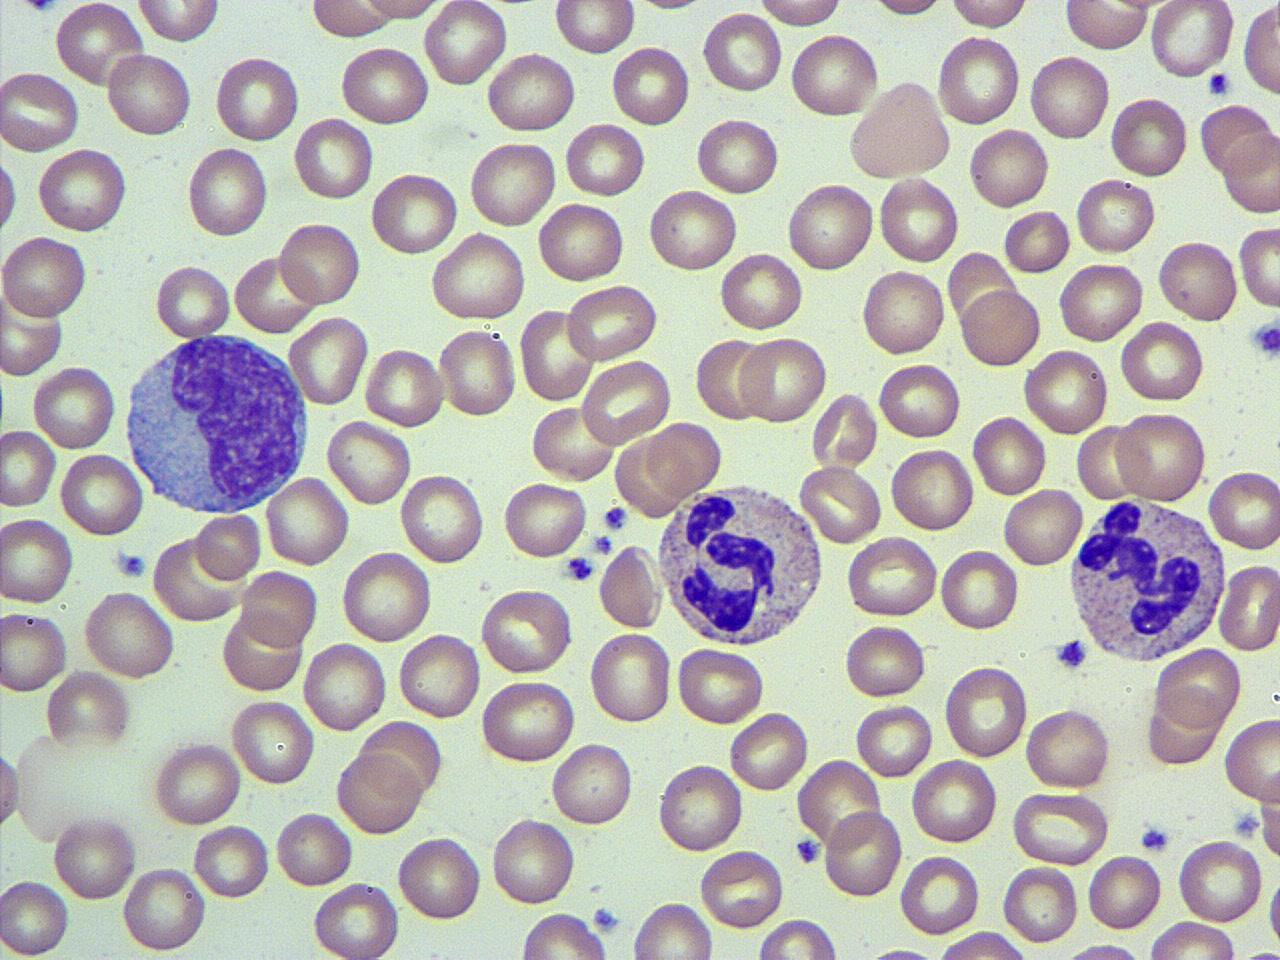Platelets: (1056, 634, 1090, 672), (1250, 321, 1280, 361), (114, 548, 148, 580), (794, 834, 823, 868), (1139, 825, 1171, 854), (590, 906, 623, 934), (564, 553, 596, 582), (602, 504, 629, 532), (1232, 812, 1260, 838), (1206, 69, 1232, 98), (17, 0, 59, 16), (1245, 944, 1280, 960), (592, 533, 616, 557)
RBC: (846, 81, 954, 179), (337, 546, 433, 646), (428, 228, 530, 323), (1112, 408, 1208, 504), (783, 178, 877, 277), (81, 586, 177, 680), (479, 676, 578, 766), (263, 471, 352, 571), (466, 137, 560, 230), (579, 356, 675, 447), (935, 30, 1023, 130), (796, 755, 883, 856), (479, 585, 574, 676), (587, 628, 674, 727), (185, 141, 271, 242), (50, 807, 140, 903), (844, 532, 941, 620), (655, 759, 745, 854), (228, 694, 317, 789), (398, 470, 487, 566), (286, 310, 370, 410), (908, 755, 1000, 847), (736, 333, 827, 425), (151, 533, 242, 626), (368, 168, 462, 258), (300, 640, 390, 734), (787, 30, 882, 119), (944, 662, 1029, 760), (213, 53, 302, 146), (337, 42, 432, 129), (152, 736, 242, 828), (535, 198, 627, 287), (394, 832, 484, 924), (35, 145, 128, 234), (1, 231, 90, 324), (646, 188, 740, 275), (276, 216, 364, 310), (396, 628, 482, 724), (324, 418, 414, 508), (488, 816, 577, 908), (888, 443, 976, 535), (876, 172, 961, 268), (1022, 346, 1112, 436), (860, 266, 947, 358), (121, 862, 207, 956), (437, 324, 521, 419), (334, 750, 424, 838), (1022, 704, 1113, 792), (821, 806, 904, 902), (1008, 788, 1110, 865), (1177, 836, 1267, 924), (548, 740, 636, 830), (52, 1, 145, 86), (518, 305, 597, 404), (58, 450, 146, 538), (564, 281, 660, 362), (421, 1, 509, 89), (718, 247, 806, 334), (105, 50, 191, 139), (966, 123, 1052, 212), (1153, 645, 1243, 731), (1026, 52, 1110, 144), (674, 643, 767, 726), (484, 51, 577, 134), (31, 362, 118, 450), (362, 343, 447, 432), (696, 845, 786, 930), (1056, 259, 1146, 344), (44, 667, 133, 751), (1118, 319, 1206, 403), (500, 478, 590, 562), (609, 41, 692, 130), (700, 7, 784, 96), (310, 878, 401, 960), (694, 113, 782, 197), (1000, 485, 1085, 570), (876, 358, 962, 443), (842, 619, 928, 703), (293, 114, 374, 204), (237, 566, 319, 652), (1108, 93, 1190, 179), (529, 402, 617, 484), (728, 709, 812, 793), (797, 463, 883, 546), (0, 512, 75, 607), (232, 252, 314, 337), (272, 806, 355, 890), (562, 118, 648, 200), (1156, 237, 1238, 323), (1147, 0, 1235, 80), (970, 410, 1048, 499), (1074, 174, 1158, 257), (938, 547, 1018, 633), (958, 286, 1042, 368), (0, 69, 82, 152), (898, 852, 980, 935), (854, 700, 936, 781), (1001, 863, 1081, 946), (1143, 686, 1223, 768), (692, 335, 769, 421), (1206, 466, 1280, 554), (191, 822, 272, 902), (1086, 851, 1164, 933), (0, 606, 71, 696), (153, 261, 232, 341), (0, 873, 72, 959), (1215, 560, 1280, 654), (646, 418, 722, 496), (596, 544, 663, 629), (1073, 421, 1143, 502), (810, 389, 880, 471), (630, 898, 716, 960), (1001, 205, 1073, 277), (1222, 713, 1280, 803), (194, 509, 263, 584), (1, 424, 58, 512), (1222, 129, 1280, 216), (516, 908, 610, 960), (552, 0, 637, 57), (1062, 0, 1150, 53), (1236, 222, 1280, 312), (134, 0, 220, 45), (1146, 918, 1240, 959), (1240, 2, 1280, 98), (307, 0, 402, 40), (755, 917, 842, 960), (935, 928, 1032, 960), (754, 0, 848, 29), (946, 0, 1031, 32), (0, 737, 23, 841), (866, 0, 952, 22), (0, 145, 19, 242)
WBC: (117, 328, 312, 516), (654, 475, 826, 650), (1064, 494, 1230, 666)
